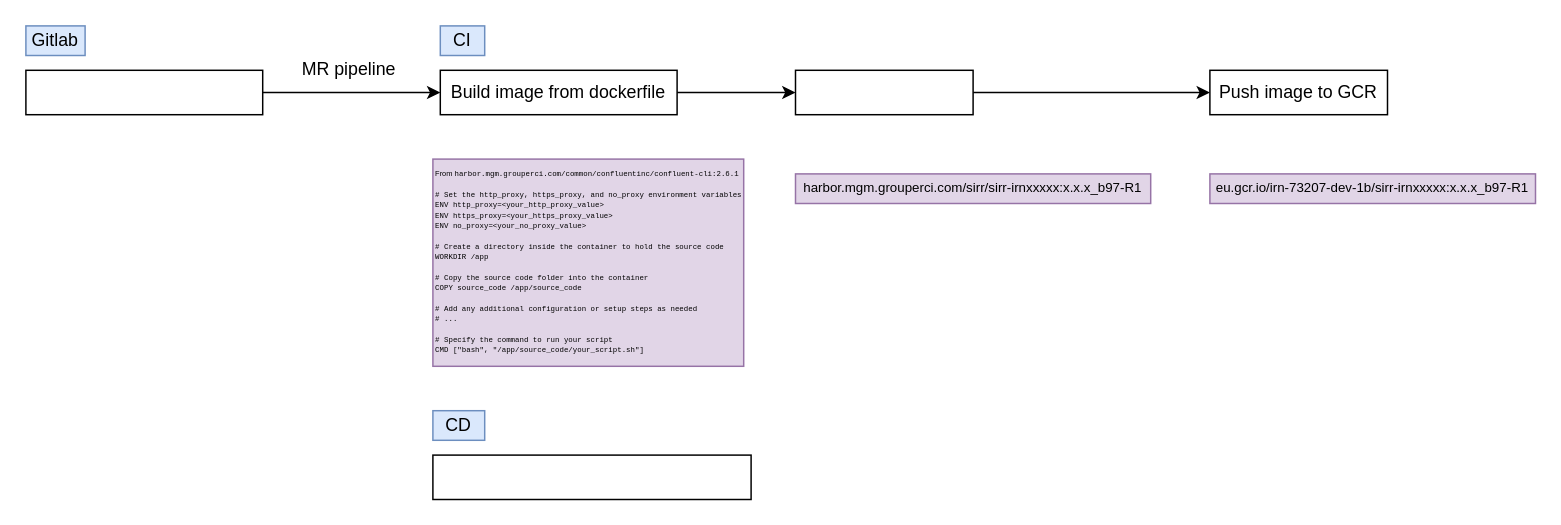
This 1561x525 diagram has some shape labels left out. Each missing label, with the box of its shape:
Code: (24, 69, 263, 115)
Deploy image as one time job on GKE: (431, 454, 751, 500)
Push image to habor: (794, 69, 973, 115)
